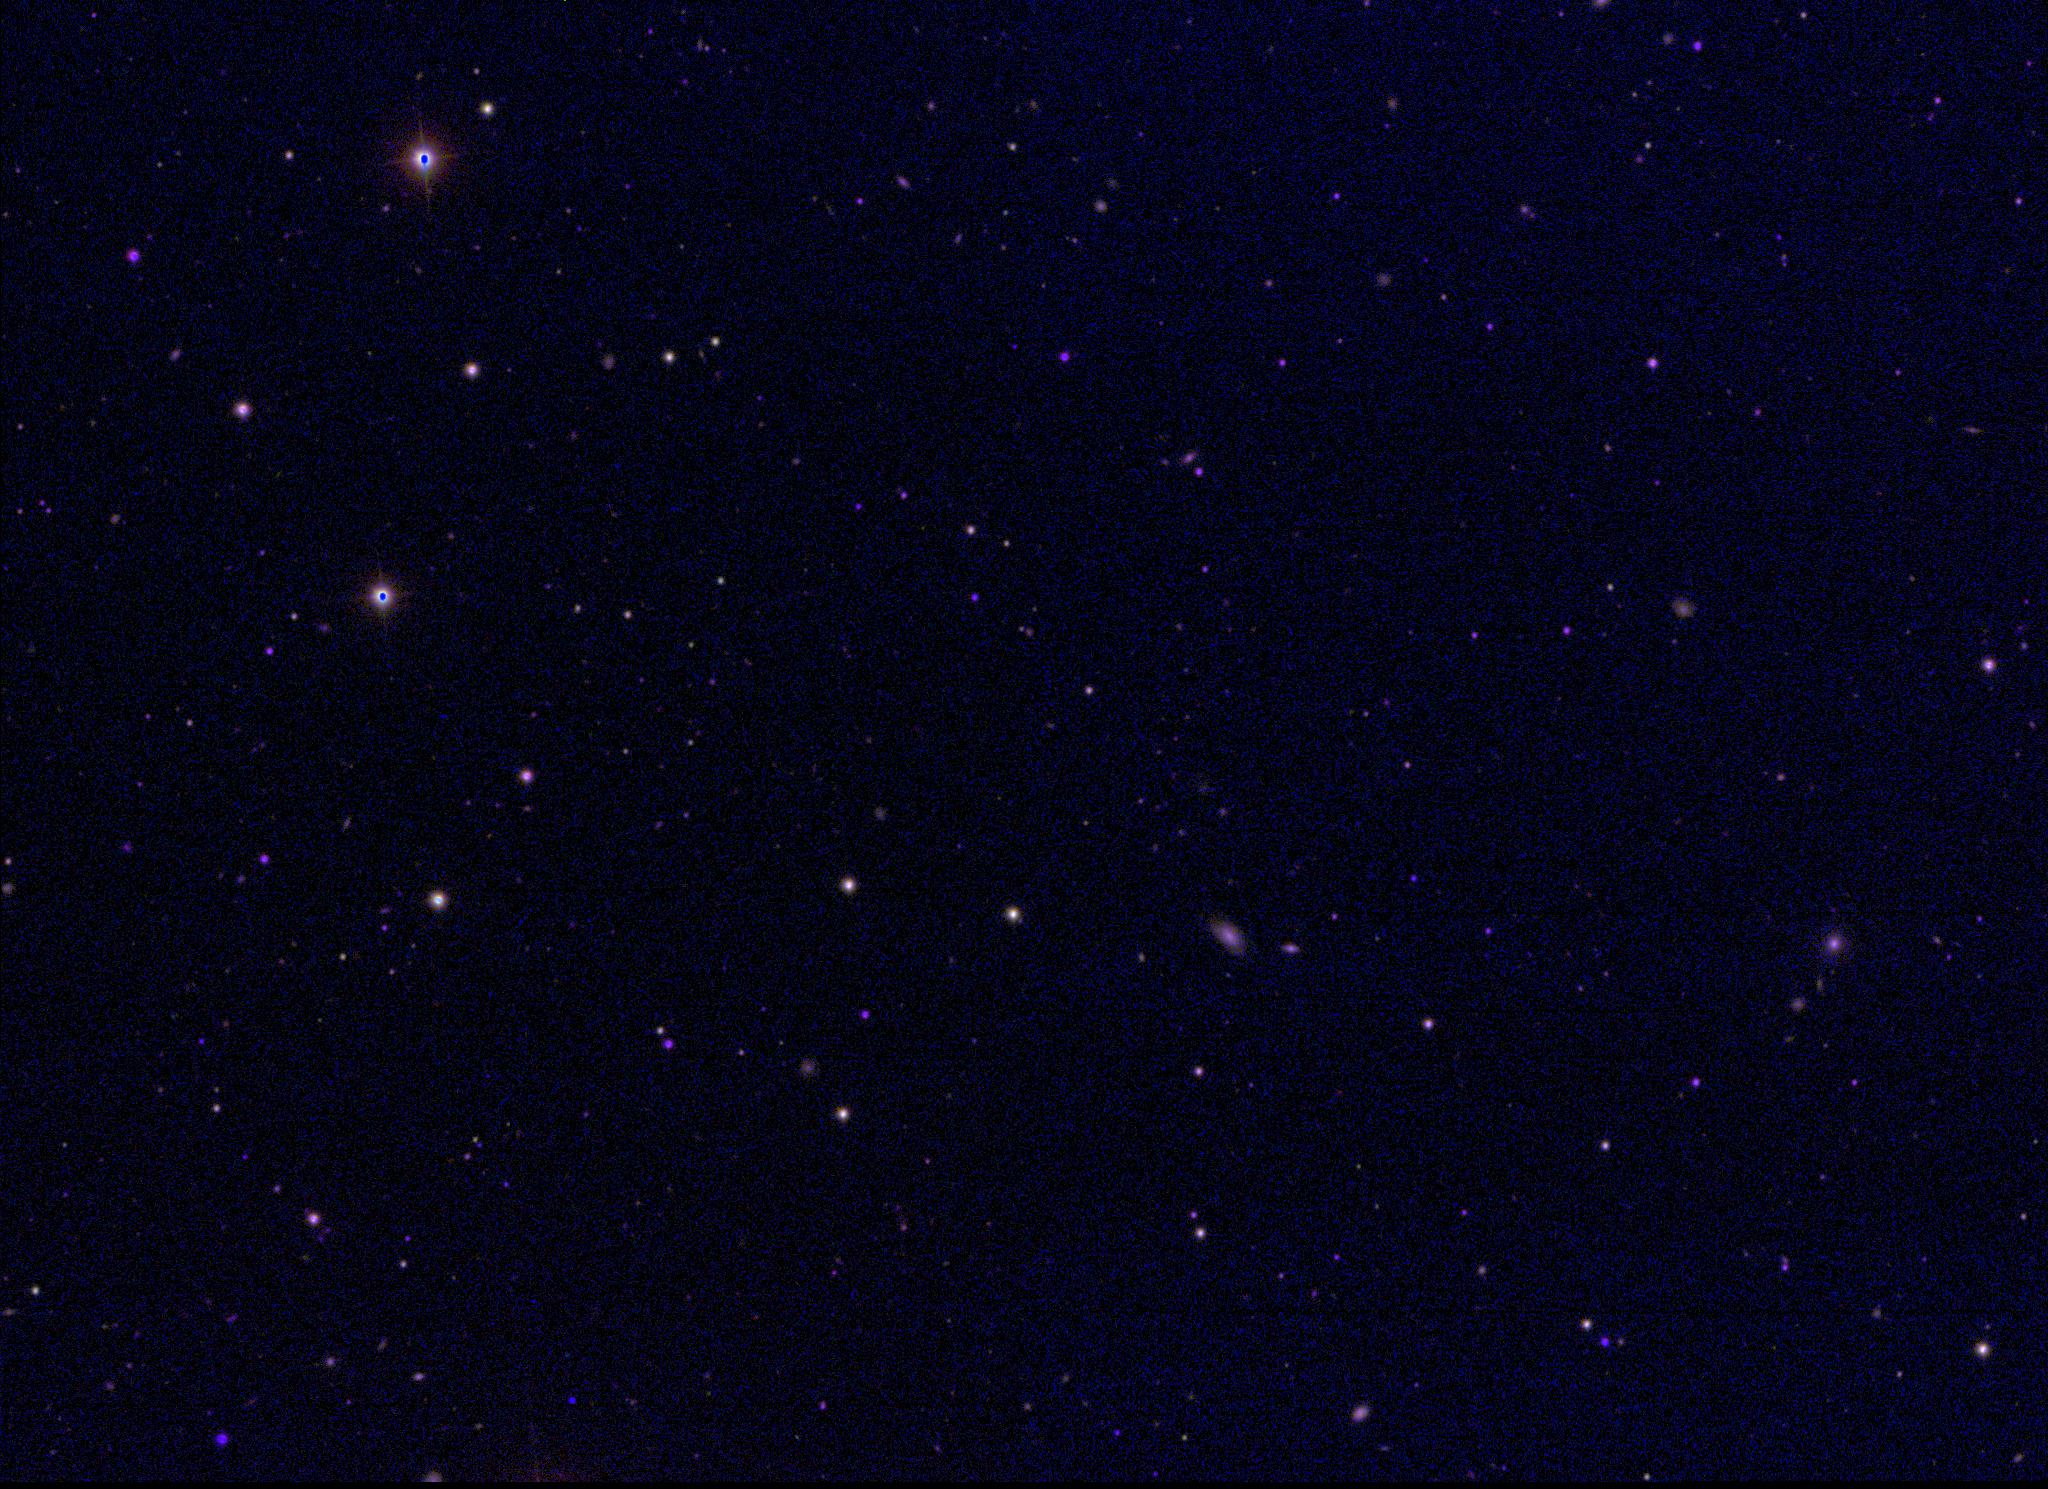L: (563, 1390, 577, 1405)
